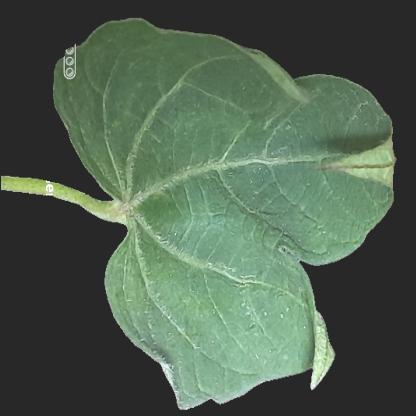curl_stage2: (117, 58, 226, 244), (161, 238, 276, 368), (267, 116, 385, 220), (296, 315, 340, 389), (249, 50, 287, 118)
